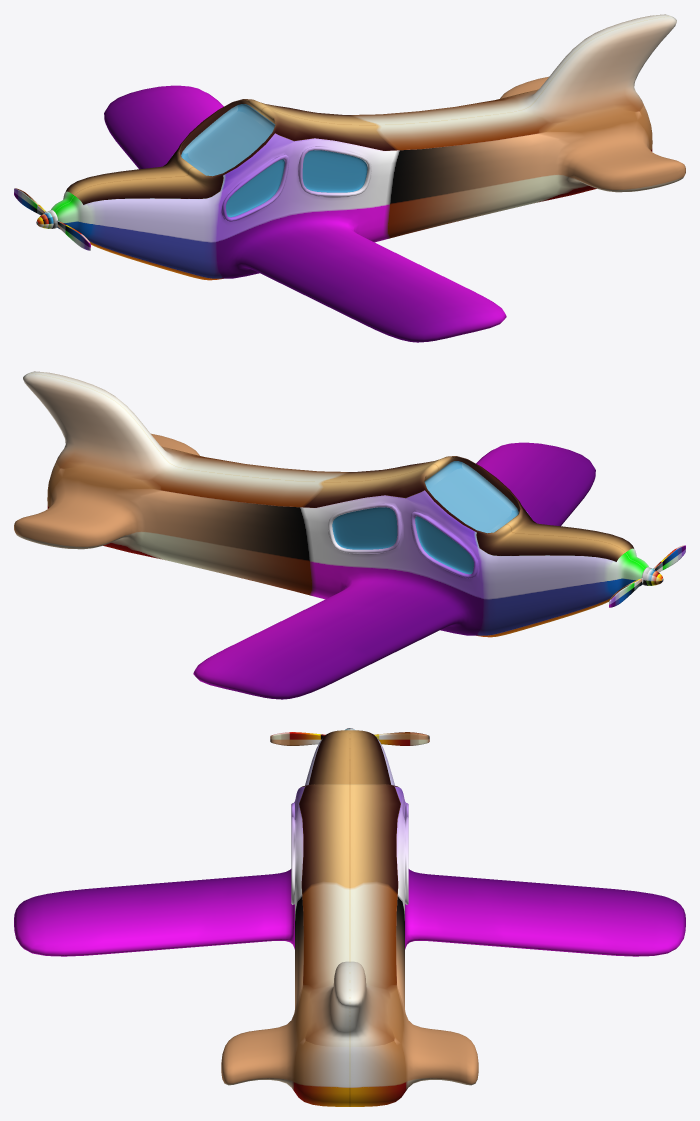
File: styloo-planesty.glb
3 views of the same model, one above another, from view 1: azimuth 30°, elevation 25°; view 2: azimuth 150°, elevation 25°; view 3: azimuth 270°, elevation 25° (orthographic). The views are drawn at different scales.
Parts seen in each view (by area): view 1: Cube.001, Cube.004; view 2: Cube.001, Cube.004; view 3: Cube.001, Cube.004.
Boxes of the visible parts, left/top/right/bottom form: Cube.001: left=51, top=14, right=685, bottom=342; Cube.004: left=14, top=188, right=90, bottom=250; Cube.001: left=14, top=371, right=648, bottom=699; Cube.004: left=609, top=545, right=685, bottom=607; Cube.001: left=14, top=730, right=685, bottom=1106; Cube.004: left=270, top=728, right=429, bottom=745.
Size of the model in its own units: 8.29 by 1.82 by 7.29.
Materials: 1 (1 with a texture image).
